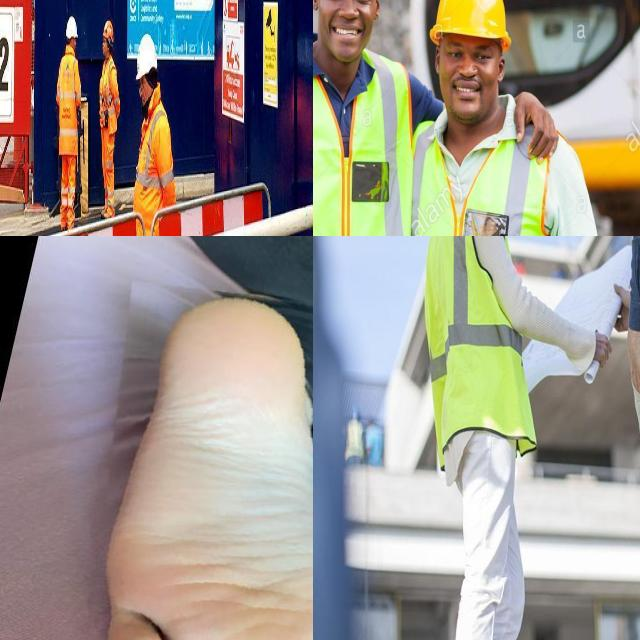Barefoots: (106, 262, 313, 640)
No_Ear-Protection: (495, 54, 507, 84), (434, 43, 442, 75), (373, 0, 382, 22), (313, 0, 322, 12)
No_Glasses: (432, 36, 506, 68), (313, 0, 384, 13)
face_nomask: (432, 33, 499, 121), (316, 0, 371, 62)
hand_noglove: (516, 79, 564, 163), (587, 328, 617, 380), (622, 321, 640, 406)
head_helmet: (429, 0, 509, 44), (134, 31, 157, 80), (64, 15, 78, 44), (102, 16, 114, 49)
person: (401, 0, 596, 236), (423, 236, 530, 640), (313, 0, 413, 236), (132, 28, 176, 236), (58, 11, 82, 223), (98, 18, 121, 225)
vest: (427, 236, 528, 453), (398, 109, 556, 236), (313, 47, 403, 236), (134, 99, 175, 236), (53, 49, 78, 164), (96, 54, 118, 130)
